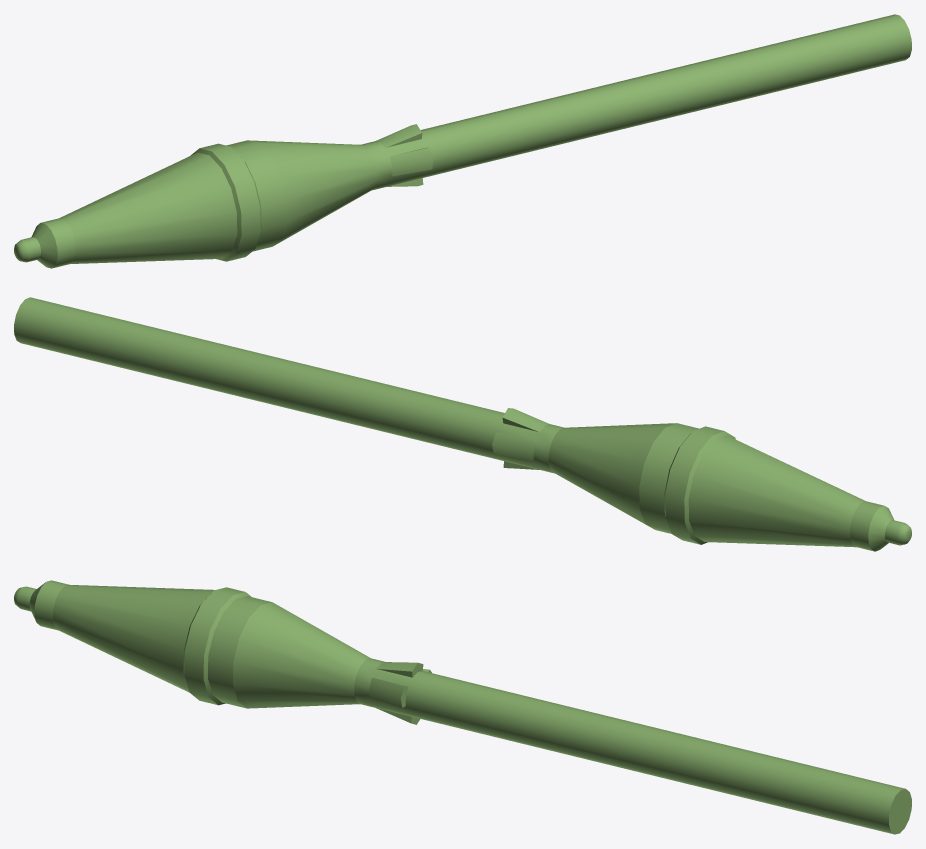
Rendered from rakete.fbx.
The picture shows the model from 3 angles, top to bottom: view 1: azimuth 30°, elevation 25°; view 2: azimuth 150°, elevation 25°; view 3: azimuth 330°, elevation 25°; orthographic projection.
Visible parts, largest first — view 1: rocket_exp; view 2: rocket_exp; view 3: rocket_exp.
Boxes of the visible parts, bbox=[...] form: rocket_exp: bbox=[14, 14, 911, 268]; rocket_exp: bbox=[14, 297, 911, 551]; rocket_exp: bbox=[14, 580, 911, 834].
Size of the model in its own units: 52.74 by 6.02 by 5.92.
